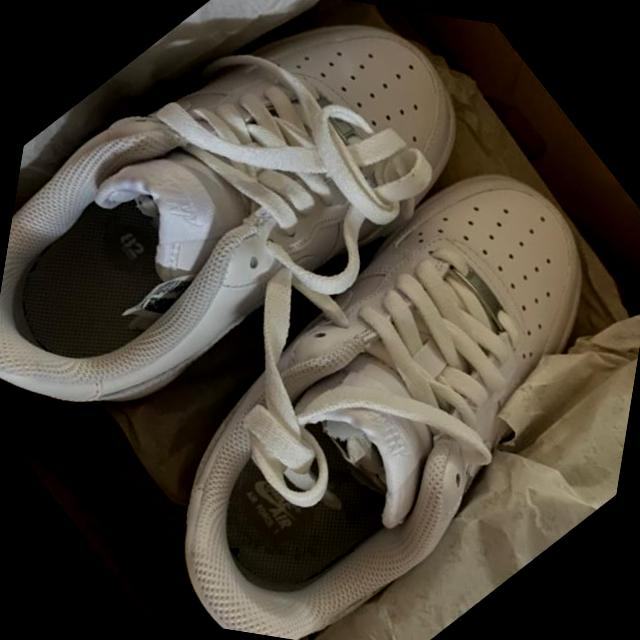nike_original_airforce: (62, 83, 640, 640), (0, 0, 527, 553)
